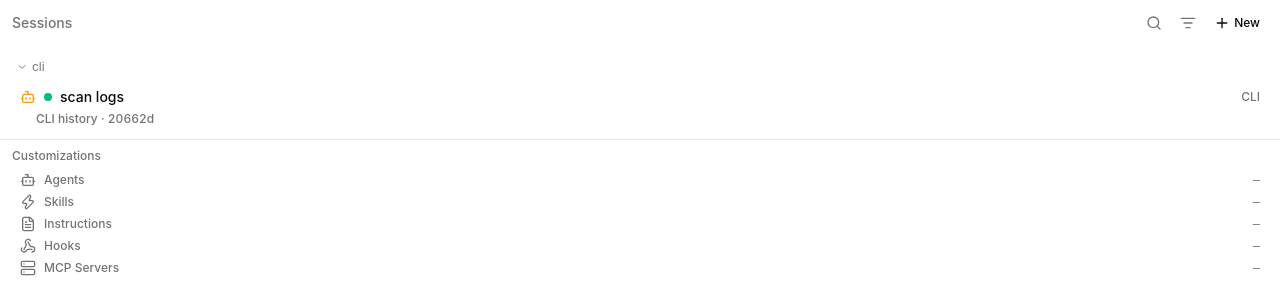
double-clicking an external CLI session title opens its inline editor
The image size is (1280, 293).
Double-click the text "scan logs" at (92, 96), box [60,88,124,105]
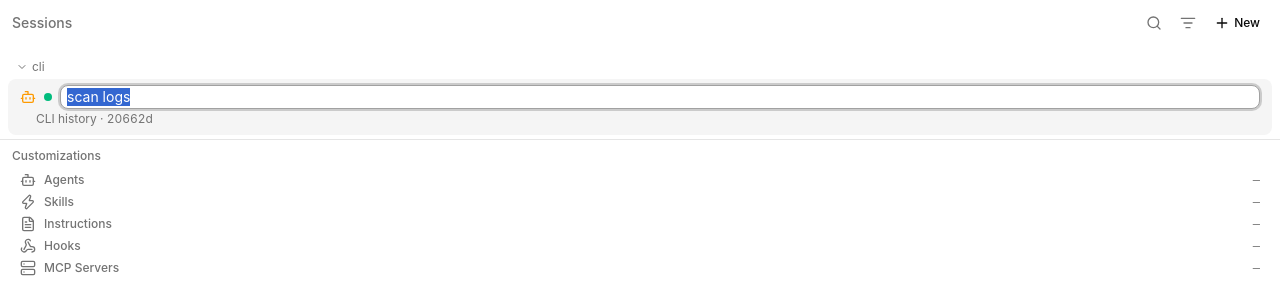
Expected: the field named "session title" holds "scan logs", [60,85,1260,108]
